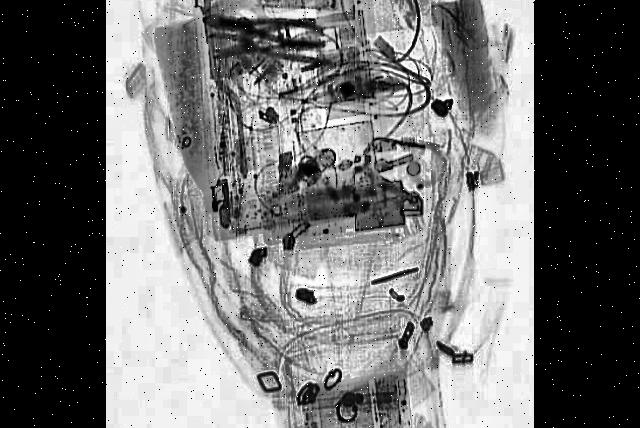Pliers: (201, 6, 325, 46)
